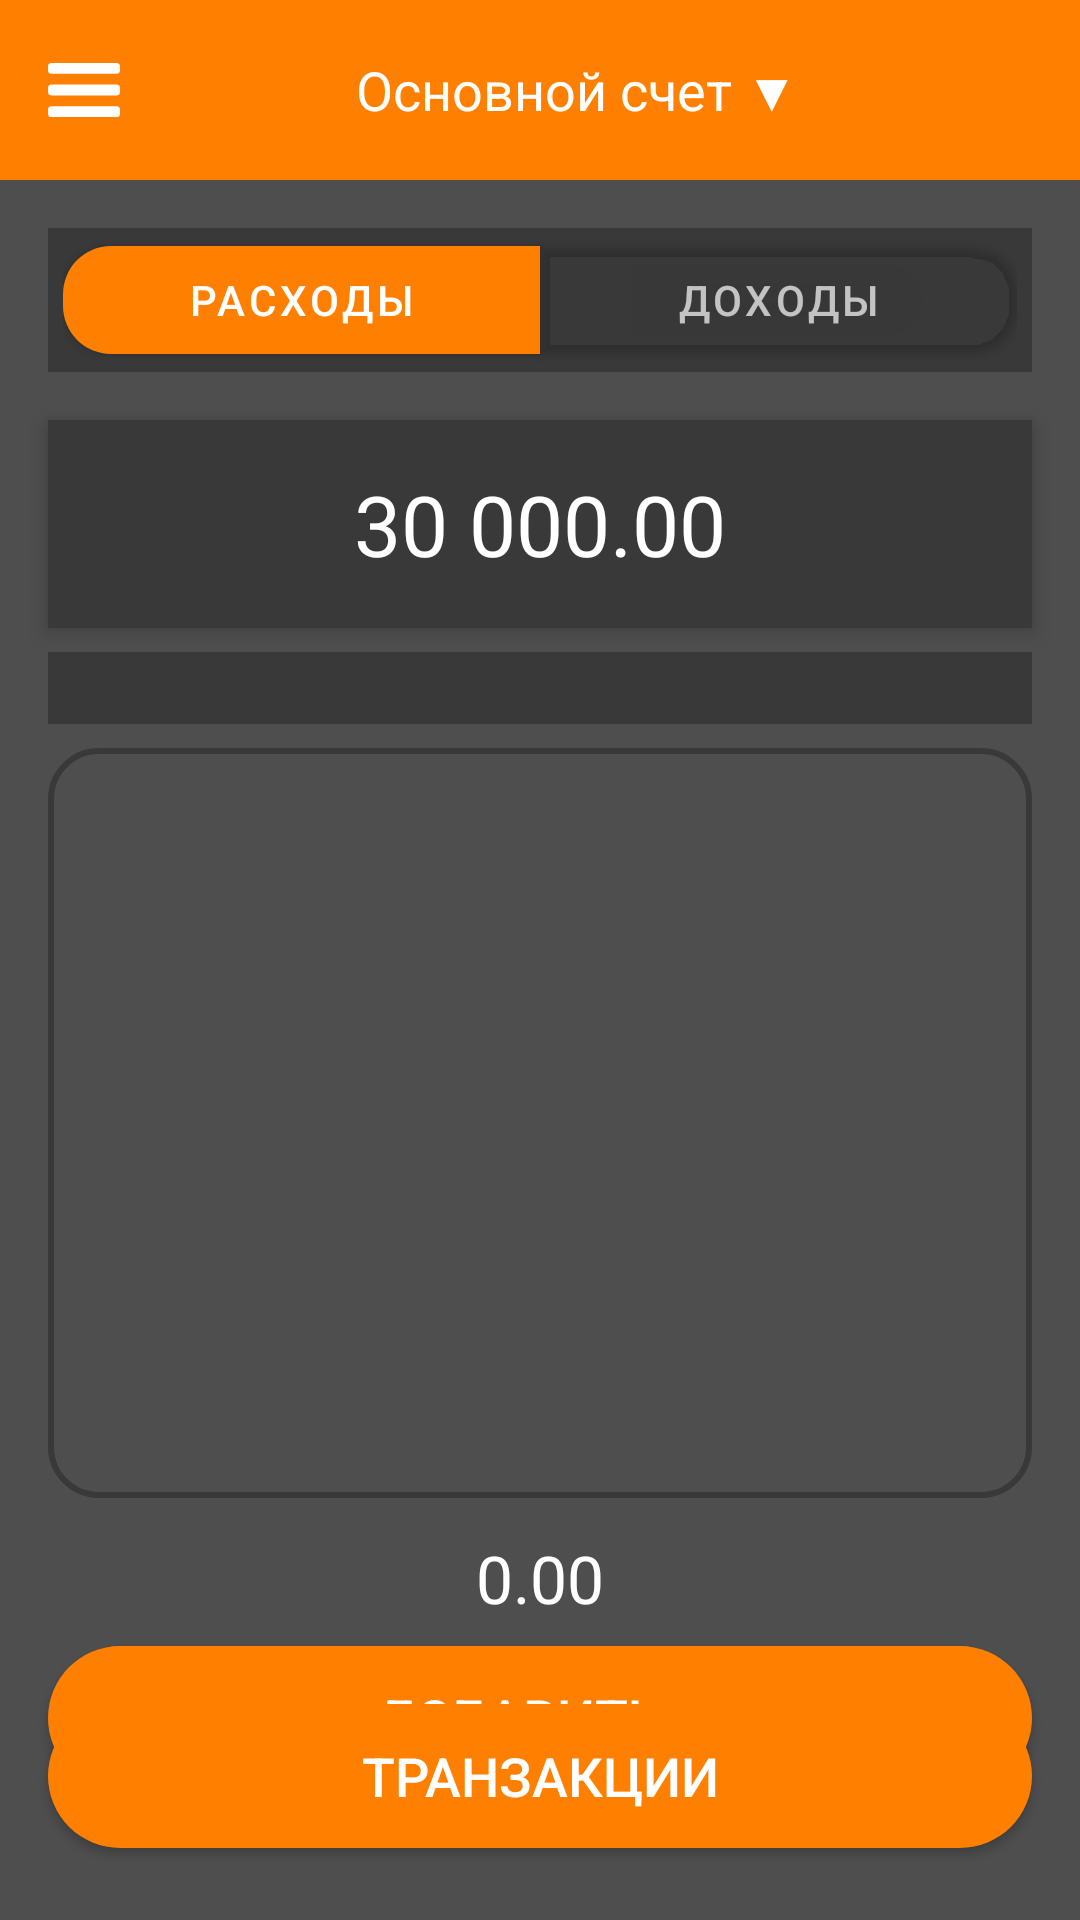

Screen size 1080x1920. Icon name, then its center in pixels as (x=x, y=y):
menu: (x=84, y=90)
